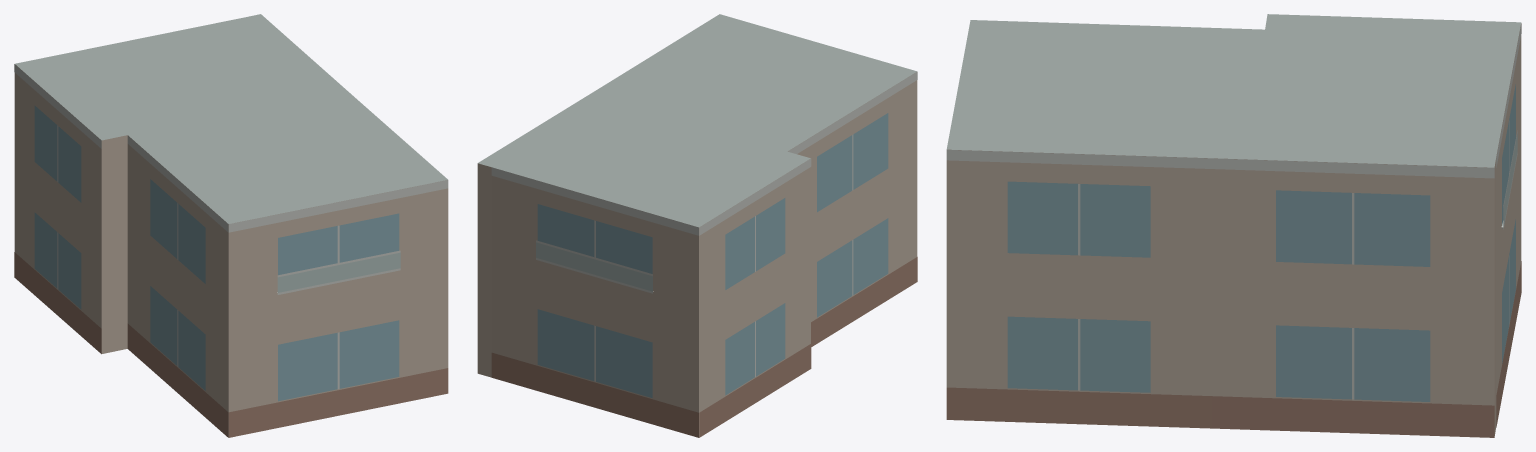
File: survey-upis-33001094.glb
3 views of the same model, side by side, from view 1: azimuth 30°, elevation 25°; view 2: azimuth 150°, elevation 25°; view 3: azimuth 270°, elevation 25° (orthographic). The views are drawn at different scales.
Visible parts, largest first — view 1: survey-upis-33001094.tmp; view 2: survey-upis-33001094.tmp; view 3: survey-upis-33001094.tmp.
Part boxes in pixels (box(x1,y1,x2,y2)): survey-upis-33001094.tmp: box(14, 14, 448, 437); survey-upis-33001094.tmp: box(477, 14, 917, 437); survey-upis-33001094.tmp: box(946, 14, 1521, 437).
Bounding box in the file's own units: 7.45 × 6.1 × 11.77.
